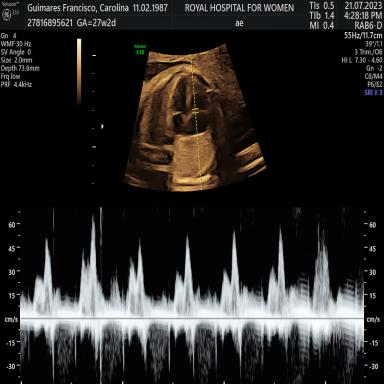Ultrasound-Waves: (24, 206, 358, 384)
